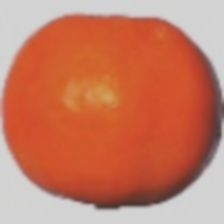tangerine: (51, 9, 192, 175)
